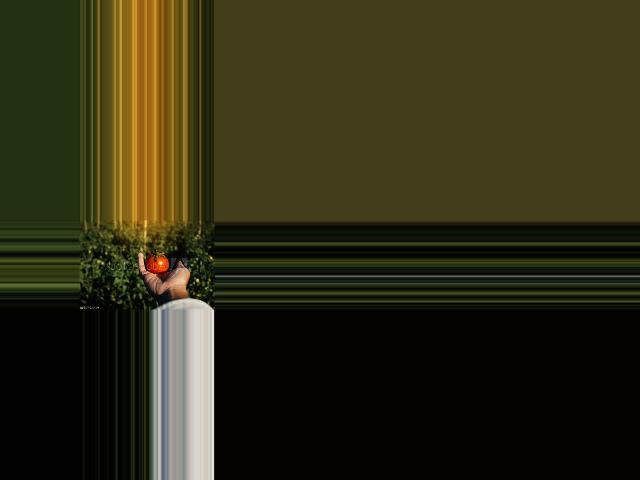tomato: (144, 252, 168, 273)
